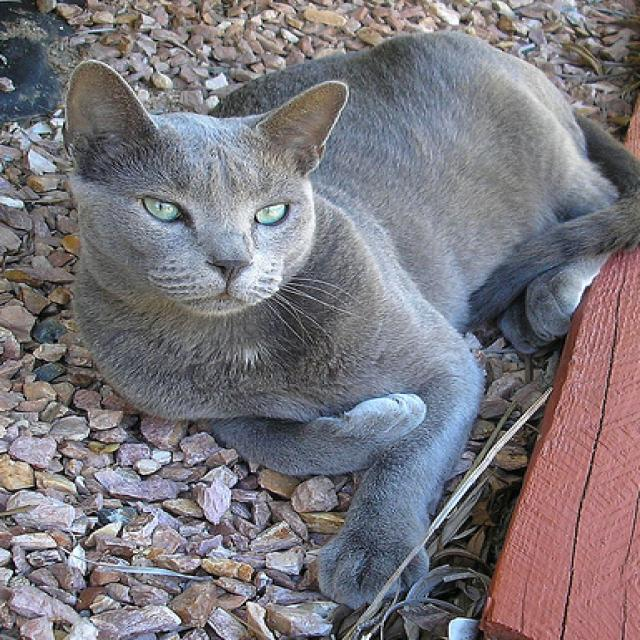Russian Blue: (56, 25, 640, 610)
